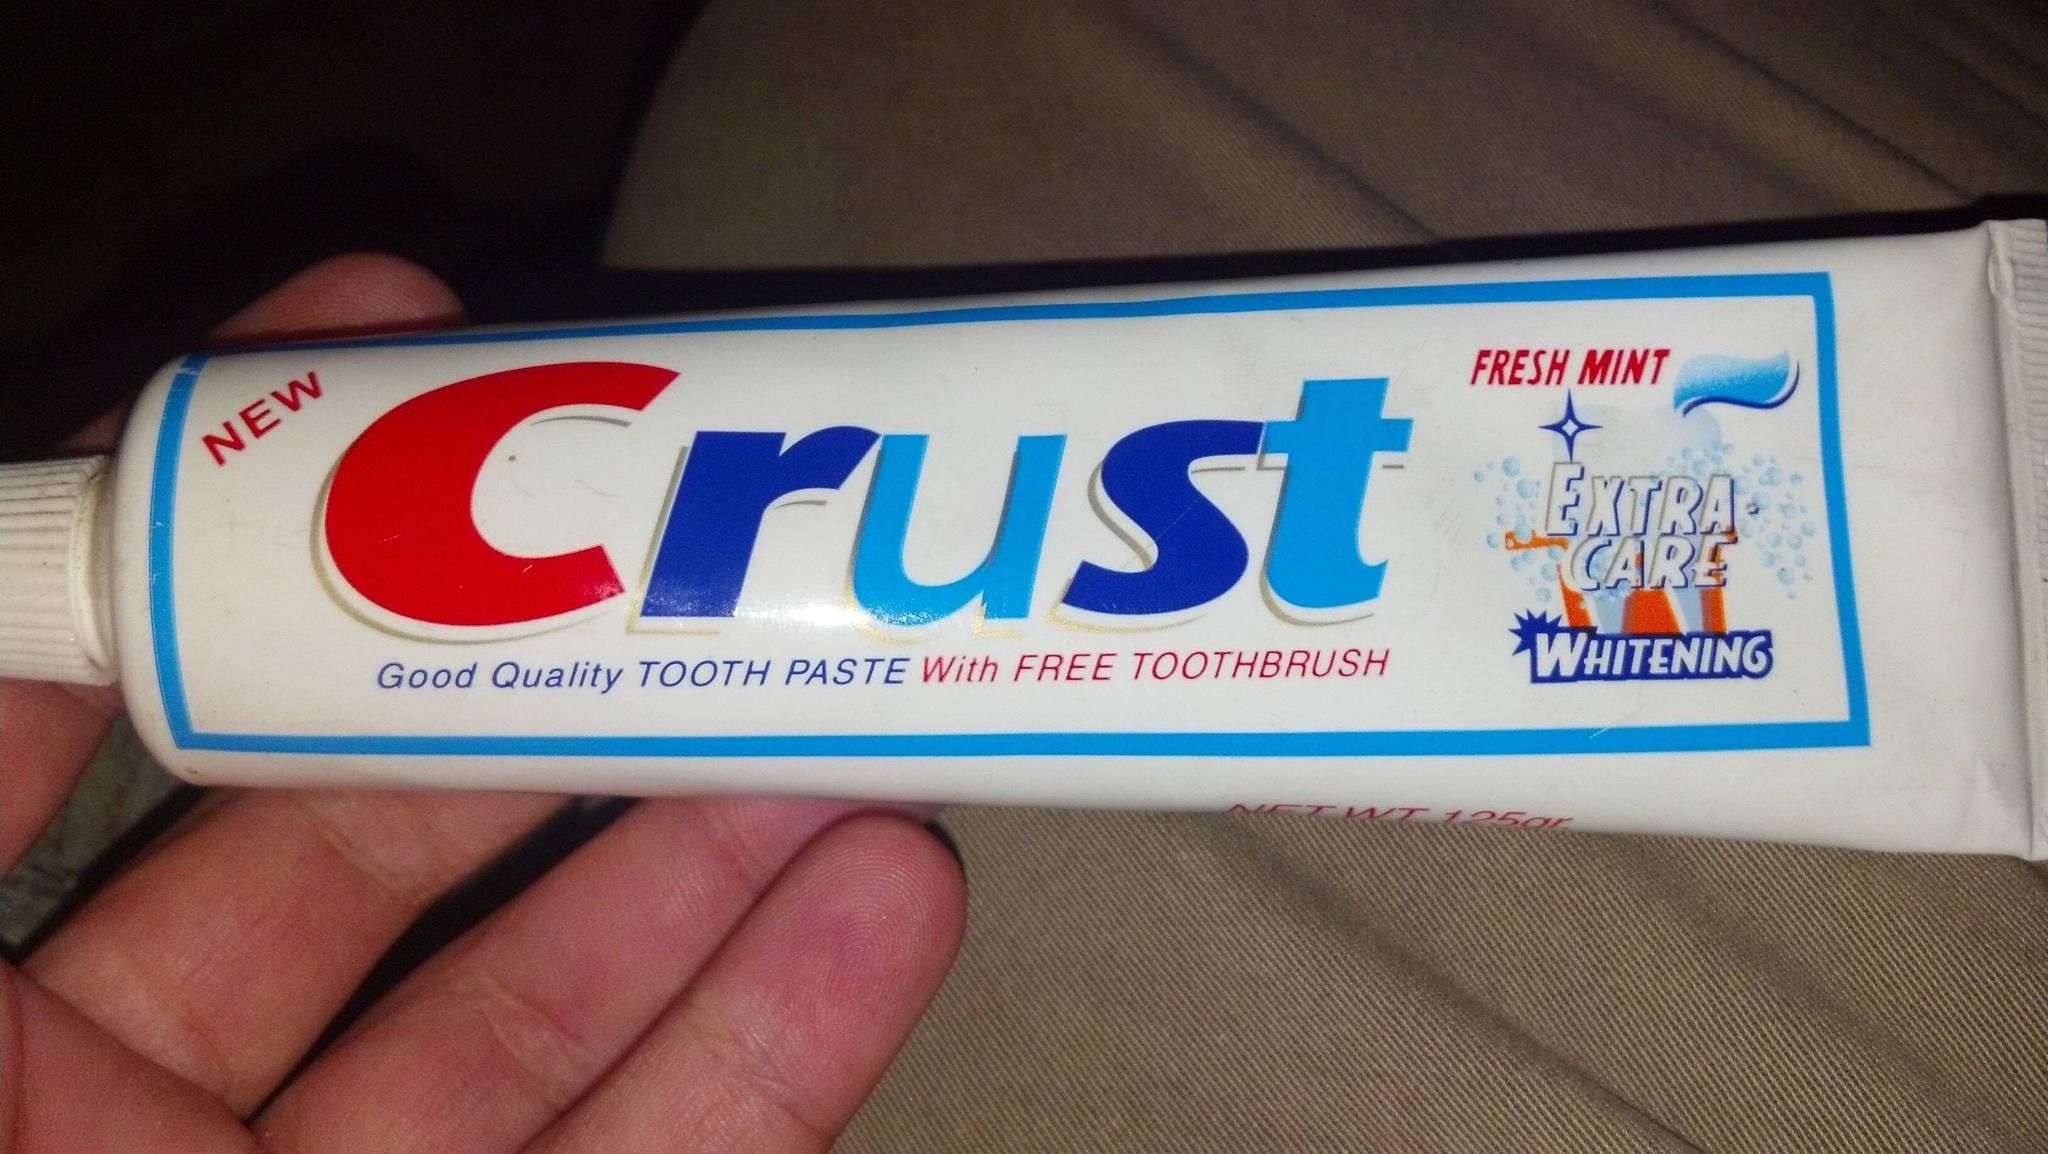toothpaste: (0, 246, 2048, 875)
